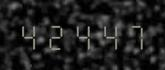four: (18, 20, 43, 50), (70, 20, 95, 50), (96, 20, 121, 50)
seven: (122, 20, 147, 50)
two: (44, 20, 69, 50)
